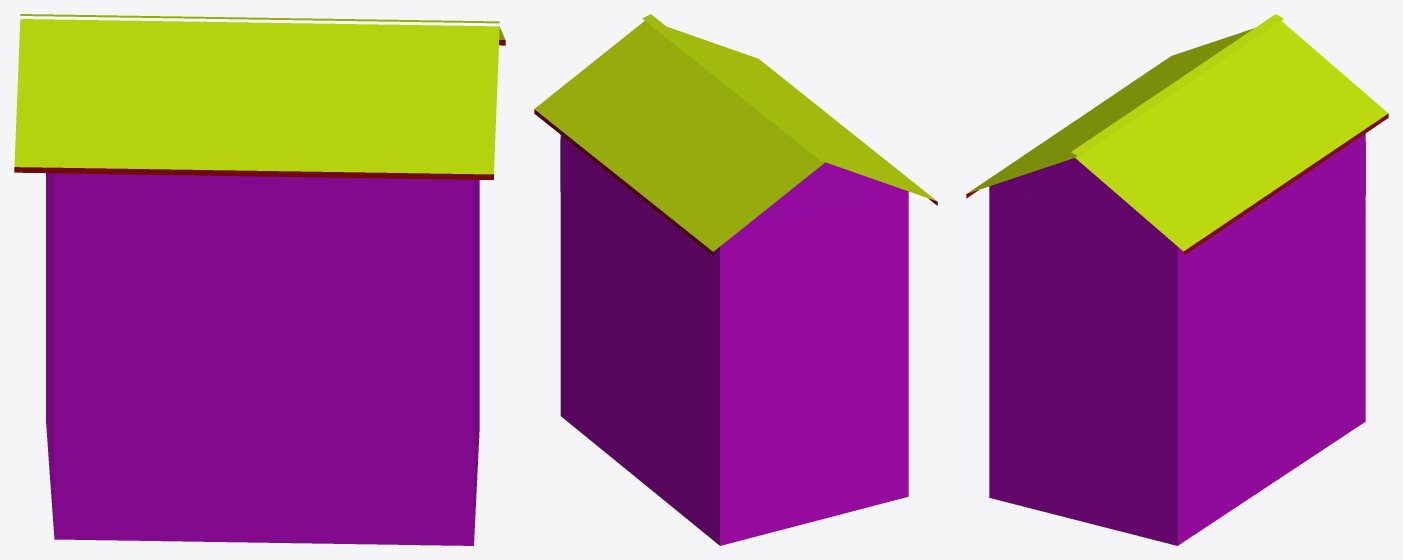
The picture shows the model from 3 angles, left to right: view 1: azimuth 30°, elevation 25°; view 2: azimuth 150°, elevation 25°; view 3: azimuth 270°, elevation 25°; orthographic projection. The views are drawn at different scales.
Parts seen in each view (by area): view 1: sc_115; view 2: sc_115; view 3: sc_115.
Part boxes in pixels (x1,y1,x2,y2): sc_115: (14, 14, 505, 545); sc_115: (534, 14, 937, 545); sc_115: (966, 14, 1388, 545).
Bounding box in the file's own units: 11.13 × 9.96 × 10.14.
